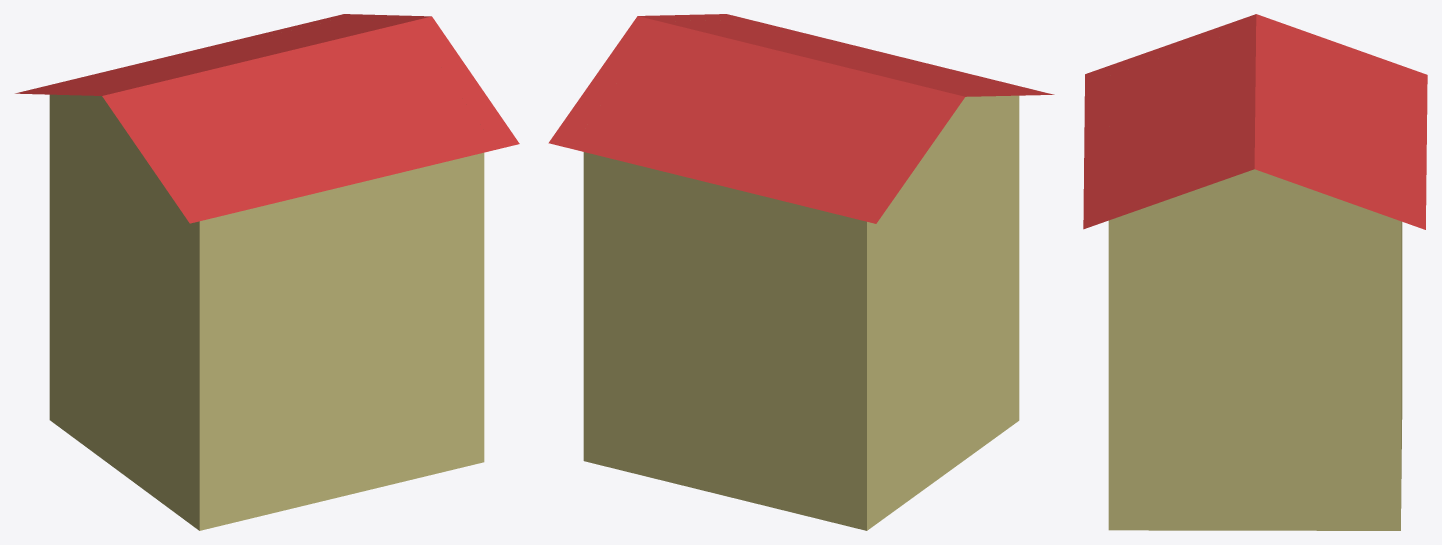
The picture shows the model from 3 angles, left to right: view 1: azimuth 30°, elevation 25°; view 2: azimuth 150°, elevation 25°; view 3: azimuth 270°, elevation 25°; orthographic projection. The views are drawn at different scales.
Bounding box in the file's own units: 11.03 × 10.29 × 12.28.
